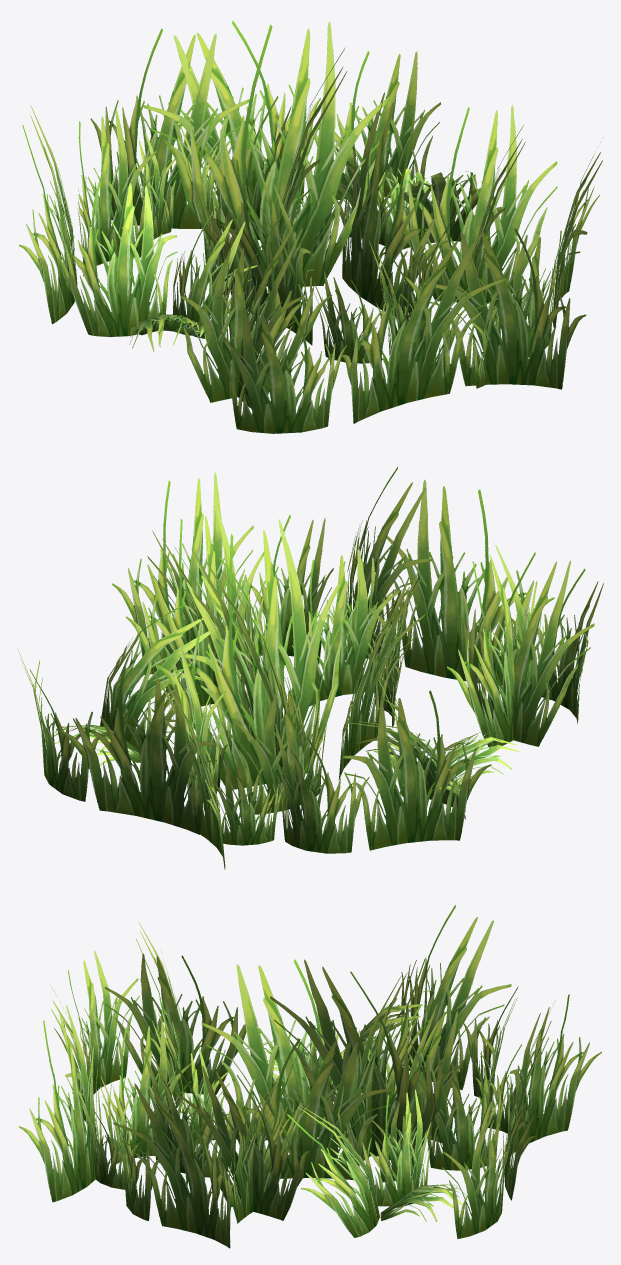
The model's file is Grass5.FBX.
3 views of the same model, one above another, from view 1: azimuth 30°, elevation 25°; view 2: azimuth 150°, elevation 25°; view 3: azimuth 270°, elevation 25° (orthographic). The views are drawn at different scales.
Visible parts, largest first — view 1: Grass5; view 2: Grass5; view 3: Grass5.
Part boxes in pixels (box(x1,y1,x2,y2)): Grass5: box(19, 21, 602, 433); Grass5: box(17, 466, 603, 869); Grass5: box(19, 905, 601, 1248).
Size of the model in its own units: 253 by 117 by 291.
